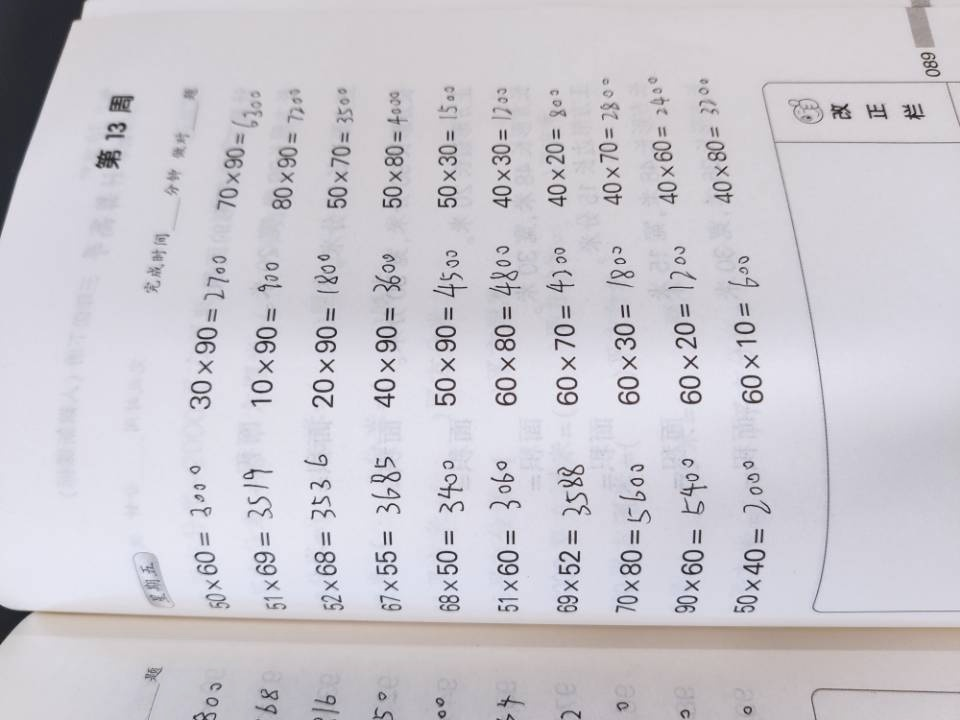equation: (169, 450, 243, 619), (658, 235, 721, 419), (228, 458, 297, 619), (717, 450, 781, 622), (421, 238, 480, 420), (689, 67, 760, 218), (538, 234, 595, 417), (293, 437, 350, 617), (183, 235, 237, 425), (362, 238, 418, 419), (594, 236, 649, 420), (305, 235, 359, 422), (720, 243, 779, 413), (483, 233, 536, 421), (242, 239, 298, 415), (537, 456, 595, 620), (476, 450, 531, 619), (363, 442, 413, 621), (664, 453, 716, 622), (424, 449, 474, 619), (213, 62, 265, 224), (315, 70, 367, 227), (266, 59, 315, 223), (427, 60, 479, 213), (606, 457, 654, 622), (367, 73, 420, 220), (585, 64, 634, 216), (640, 66, 689, 216), (539, 76, 585, 215), (487, 76, 531, 221)
